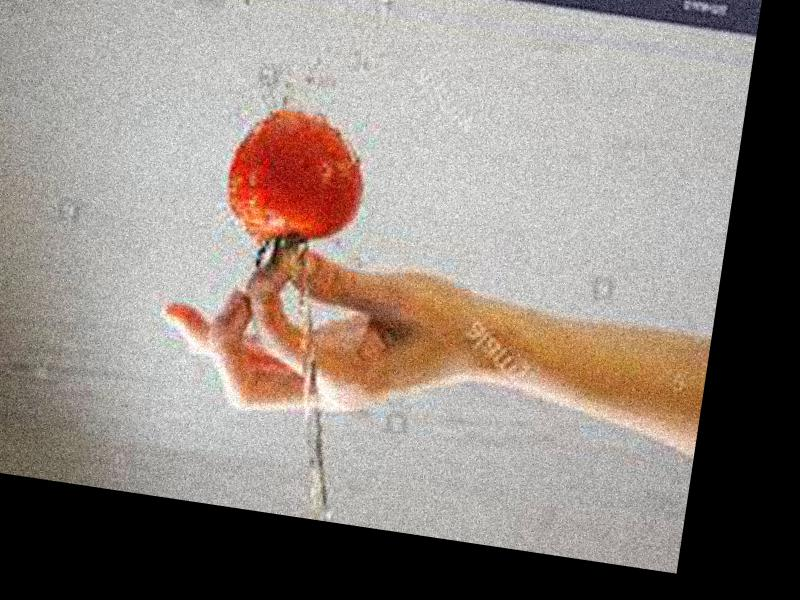Tomato: (224, 101, 376, 250)
